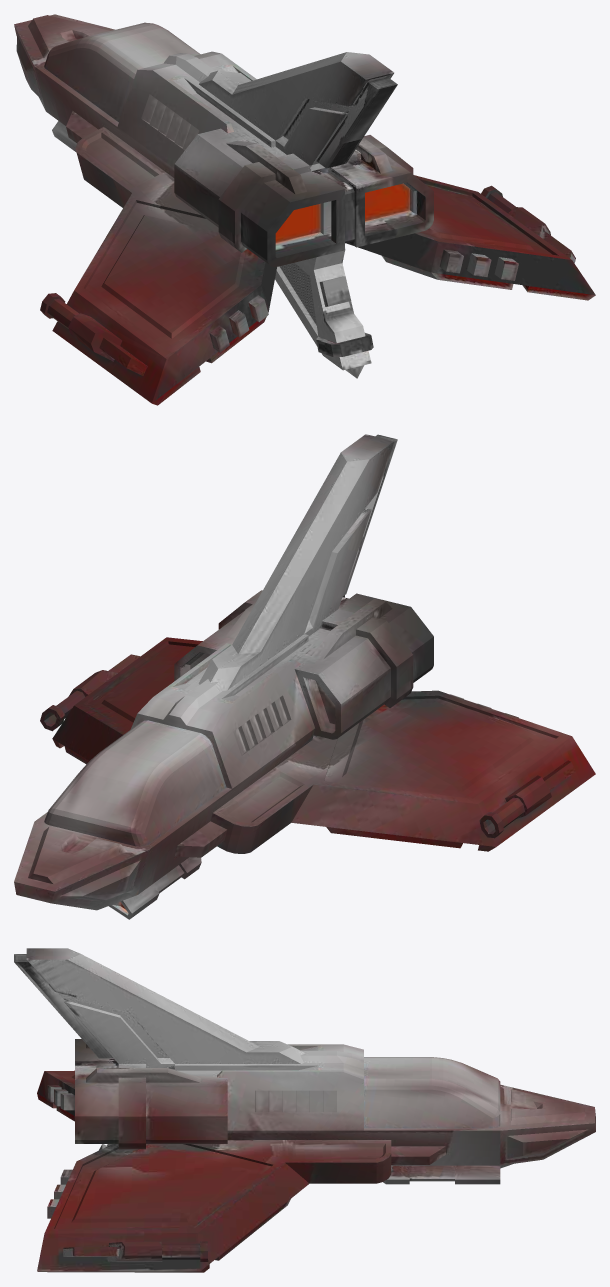
3 views of the same model, one above another, from view 1: azimuth 30°, elevation 25°; view 2: azimuth 150°, elevation 25°; view 3: azimuth 270°, elevation 25° (orthographic). The views are drawn at different scales.
Parts seen in each view (by area): view 1: Mesh_0; view 2: Mesh_0; view 3: Mesh_0.
Part boxes in pixels (left/top/right/bottom): Mesh_0: left=14, top=14, right=595, bottom=405; Mesh_0: left=14, top=434, right=595, bottom=919; Mesh_0: left=14, top=948, right=595, bottom=1272.
Size of the model in its own units: 1.87 by 1.24 by 2.5.
Materials: 1 (1 with a texture image).
